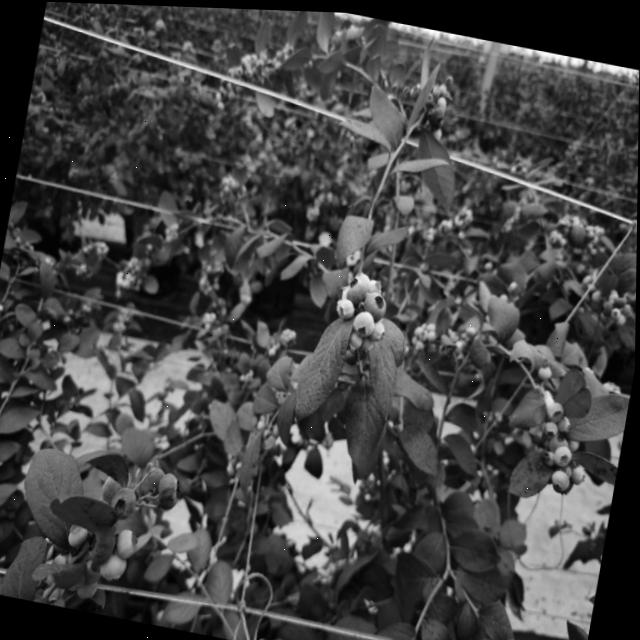RipeBlueBerry: (366, 284, 395, 320), (345, 272, 371, 303)
Semi-RipeBlueBerry: (158, 473, 186, 510), (144, 465, 164, 490)
UnripeBlueBerry: (354, 309, 380, 344), (97, 472, 123, 506), (556, 442, 576, 466)
